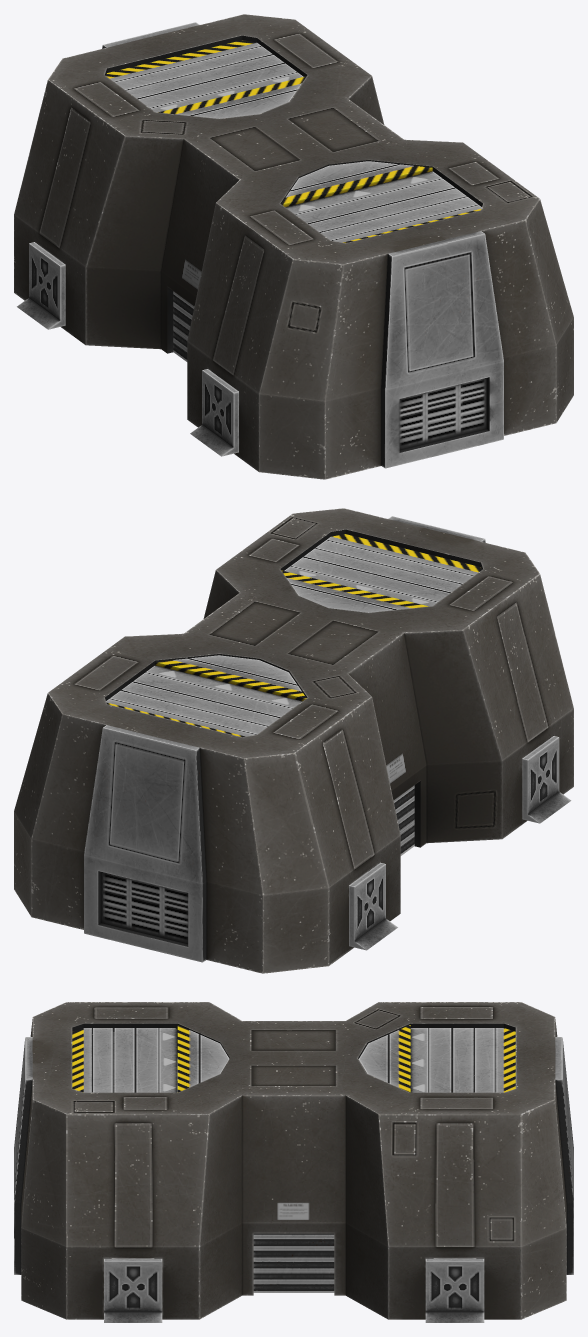
3 views of the same model, one above another, from view 1: azimuth 30°, elevation 25°; view 2: azimuth 150°, elevation 25°; view 3: azimuth 270°, elevation 25° (orthographic). The views are drawn at different scales.
Visible parts, largest first — view 1: base, door2b, door1b, door1a, foot1, foot2, door2a, gendoor1; view 2: base, door1b, door2b, door2a, foot2, foot1, door1a, gendoor1; view 3: base, door1b, door2b, gendoor2, foot3, foot4, door1a, door2a.
Part boxes in pixels (left/top/right/bottom): base: left=14, top=14, right=573, bottom=479; door2b: left=106, top=40, right=303, bottom=112; door1b: left=286, top=171, right=481, bottom=243; door1a: left=281, top=161, right=432, bottom=207; foot1: left=17, top=242, right=65, bottom=329; foot2: left=190, top=369, right=238, bottom=456; door2a: left=158, top=76, right=306, bottom=118; gendoor1: left=173, top=291, right=194, bottom=361; base: left=14, top=508, right=573, bottom=973; door1b: left=284, top=534, right=481, bottom=606; door2b: left=106, top=665, right=301, bottom=737; door2a: left=155, top=655, right=306, bottom=701; foot2: left=522, top=736, right=571, bottom=823; foot1: left=349, top=862, right=397, bottom=950; door1a: left=281, top=570, right=428, bottom=612; gendoor1: left=393, top=785, right=414, bottom=855; base: left=14, top=1002, right=573, bottom=1319; door1b: left=72, top=1028, right=177, bottom=1092; door2b: left=410, top=1028, right=515, bottom=1092; gendoor2: left=253, top=1233, right=334, bottom=1292; foot3: left=425, top=1258, right=484, bottom=1322; foot4: left=104, top=1258, right=162, bottom=1322; door1a: left=177, top=1025, right=229, bottom=1092; door2a: left=358, top=1025, right=410, bottom=1092.
Bounding box in the file's own units: 52.93 × 30.45 × 78.95.
Materials: 1 (1 with a texture image).
